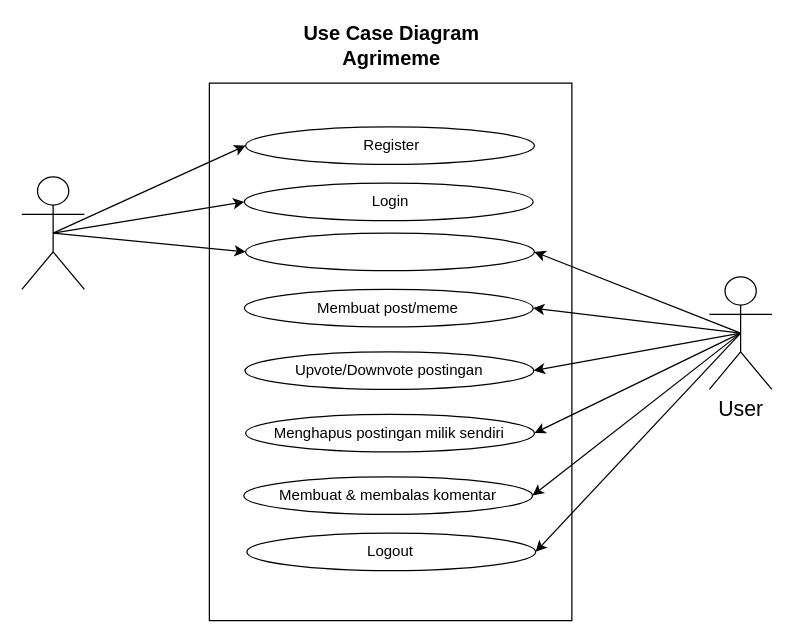
Image size: 794x643. Some labels were removed from this diagram. The centre of each missing label's shape, as x and y in pixels:
Melihat postingan & komentar: the point at 389,251
Visitor: the point at 52,232
